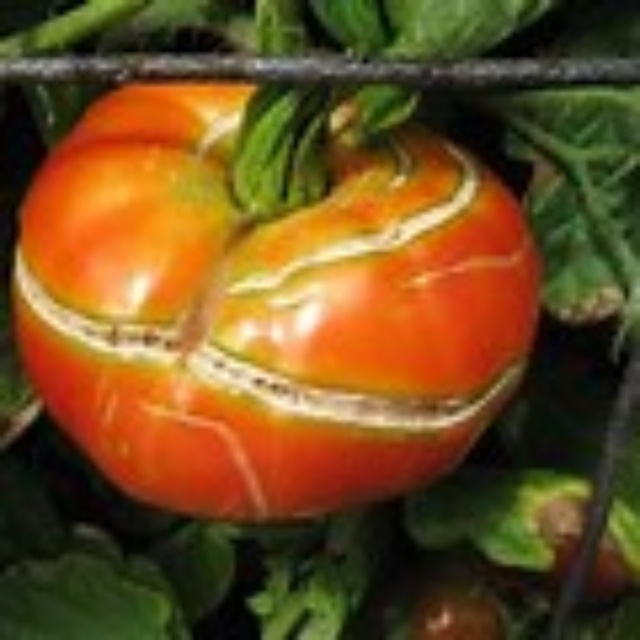tomato: (15, 58, 545, 526)
